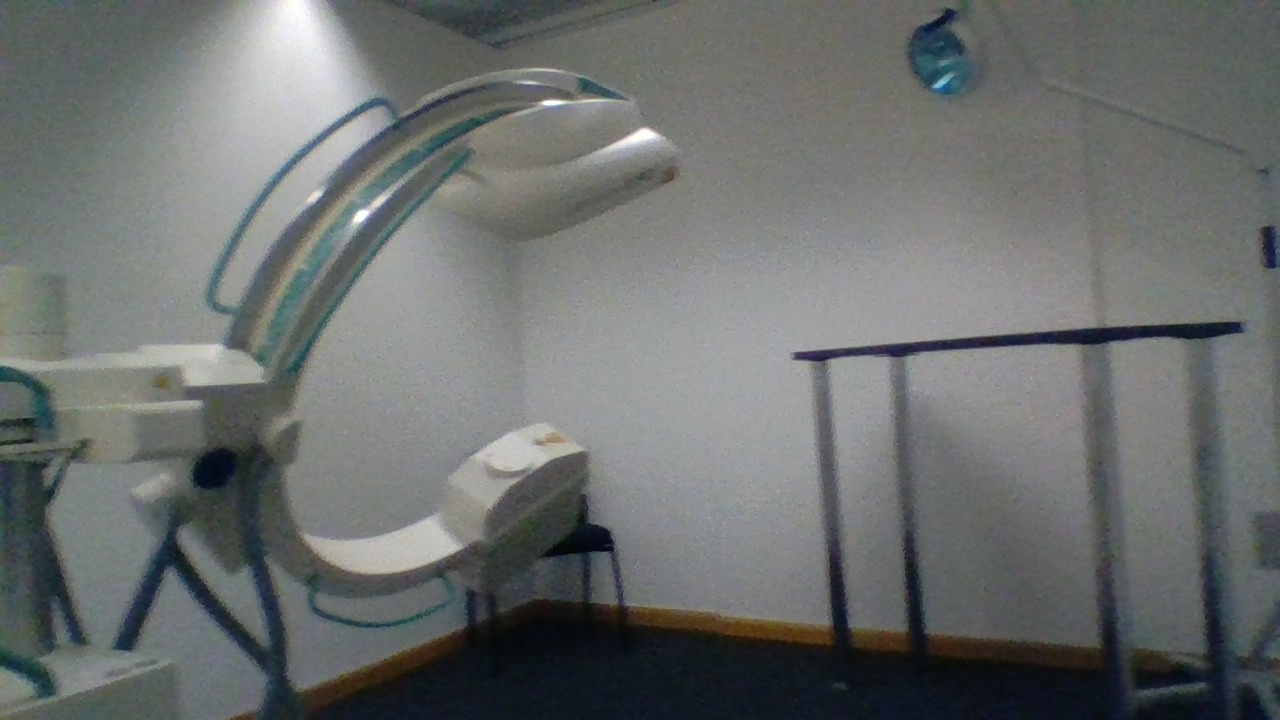carmDOWN: (438, 419, 590, 542)
carmLOCK: (191, 446, 240, 493)
carmUP: (408, 67, 680, 241)
